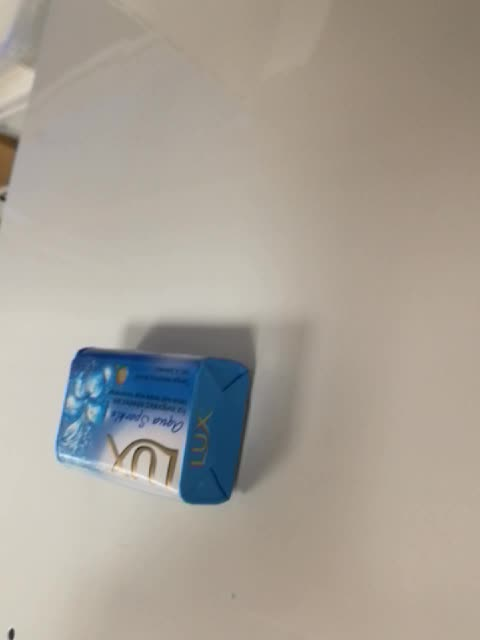soap: (55, 344, 253, 509)
